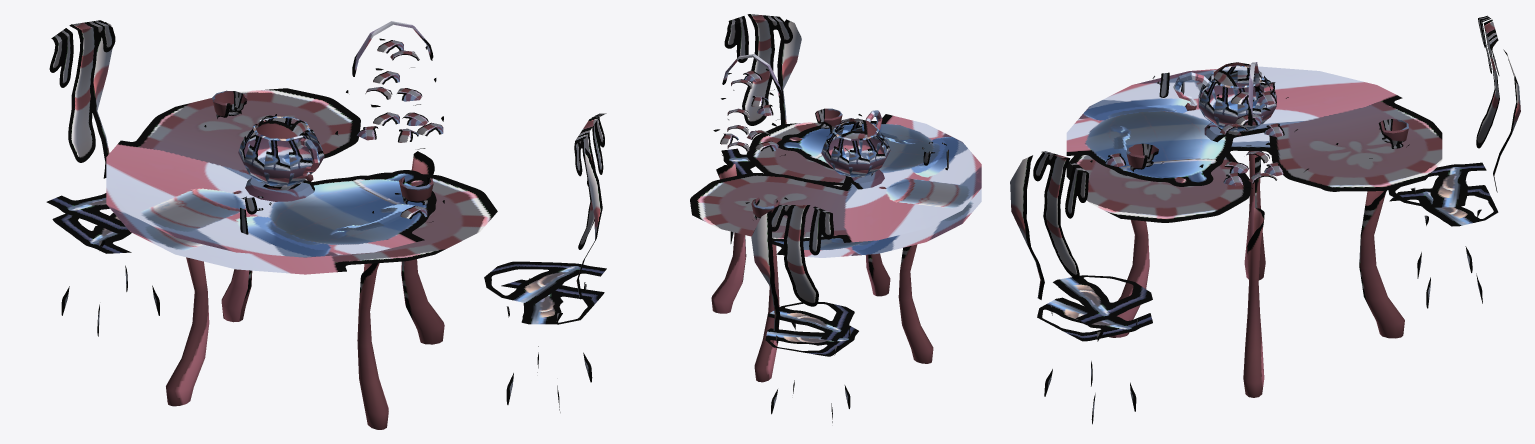
The model's file is tea_set.fbx.
3 views of the same model, side by side, from view 1: azimuth 30°, elevation 25°; view 2: azimuth 150°, elevation 25°; view 3: azimuth 270°, elevation 25° (orthographic). The views are drawn at different scales.
Visible parts, largest first — view 1: tea_set; view 2: tea_set; view 3: tea_set.
Boxes of the visible parts, left/top/right/bottom form: tea_set: left=46, top=20, right=606, bottom=429; tea_set: left=690, top=14, right=981, bottom=422; tea_set: left=1010, top=15, right=1520, bottom=424.
Size of the model in its own units: 135 by 105 by 152.
